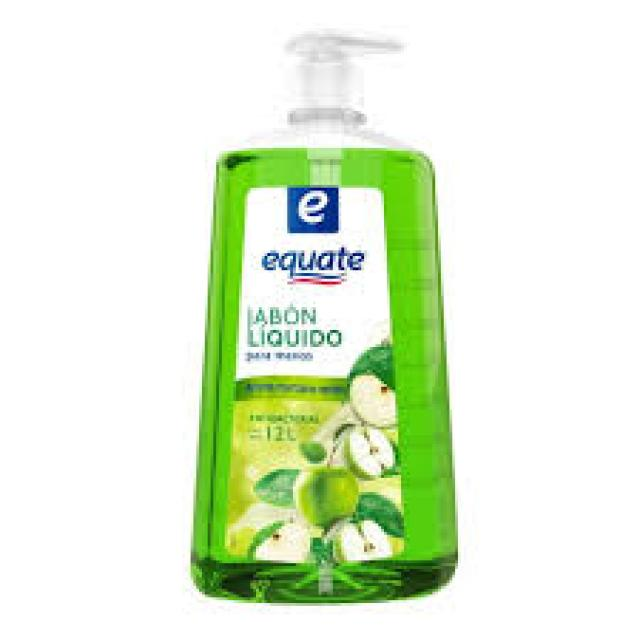Botella: (197, 14, 465, 614)
